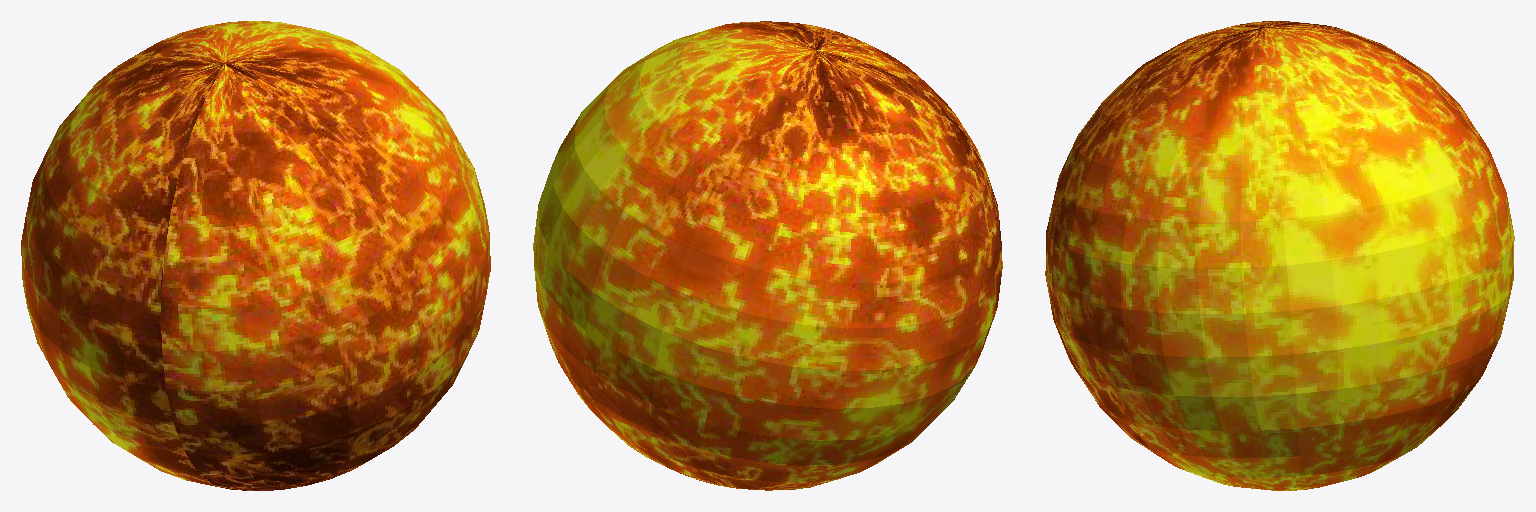
3 views of the same model, side by side, from view 1: azimuth 30°, elevation 25°; view 2: azimuth 150°, elevation 25°; view 3: azimuth 270°, elevation 25° (orthographic).
Parts seen in each view (by area): view 1: Sphere; view 2: Sphere; view 3: Sphere.
Boxes of the visible parts, x1,y1,x2,y2 form: Sphere: [21, 21, 490, 490]; Sphere: [533, 21, 1002, 490]; Sphere: [1045, 21, 1514, 490].
Size of the model in its own units: 2 by 2 by 1.99.
Materials: 1 (1 with a texture image).